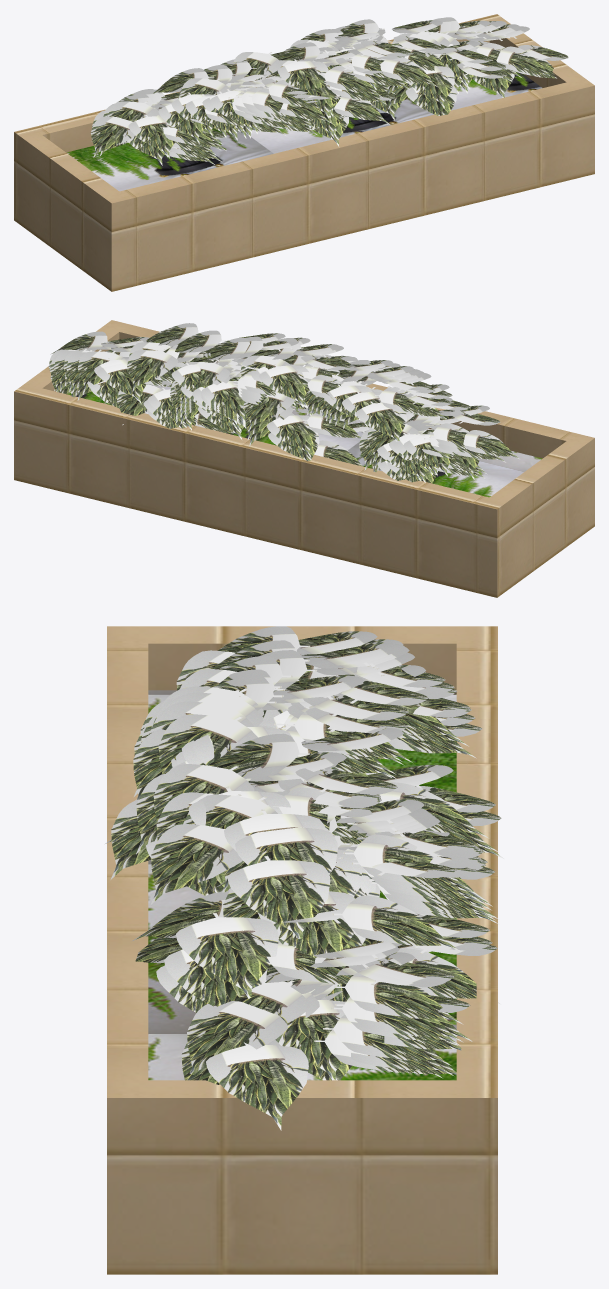
Rendered from plantas.dae.
3 renders of one model, top to bottom at view 1: azimuth 30°, elevation 25°; view 2: azimuth 150°, elevation 25°; view 3: azimuth 270°, elevation 25°, orthographic. The views are drawn at different scales.
Visible parts, largest first — view 1: group_0 (×3), instance_193, instance_291, instance_120, instance_247, instance_157, instance_12, instance_208, instance_189, instance_40, instance_75, instance_61 (+28 smaller); view 2: group_0 (×3), instance_17, instance_239, instance_48, instance_3, instance_126, instance_220, instance_291, instance_64, instance_199, instance_225, instance_203 (+27 smaller); view 3: group_0 (×3), instance_59, instance_70, instance_192, instance_157, instance_12, instance_17, instance_168, instance_225, instance_153, instance_278, instance_208 (+51 smaller).
Part boxes in pixels (x1,y1,x2,y2): group_0 (×3): [14, 14, 594, 291]; instance_193: [277, 59, 328, 90]; instance_291: [91, 116, 135, 157]; instance_120: [128, 114, 175, 158]; instance_247: [407, 66, 454, 107]; instance_157: [379, 57, 437, 86]; instance_12: [496, 46, 550, 75]; instance_208: [319, 65, 382, 97]; instance_189: [334, 96, 390, 124]; instance_40: [233, 52, 282, 79]; instance_75: [405, 86, 456, 115]; instance_61: [107, 101, 158, 121]; group_0 (×3): [14, 320, 594, 597]; instance_17: [127, 349, 178, 391]; instance_239: [260, 364, 308, 407]; instance_48: [266, 415, 317, 456]; instance_3: [356, 401, 407, 441]; instance_126: [201, 381, 245, 422]; instance_220: [243, 391, 294, 430]; instance_291: [463, 430, 519, 459]; instance_64: [96, 362, 146, 403]; instance_199: [403, 433, 453, 476]; instance_225: [77, 350, 127, 392]; instance_203: [302, 412, 360, 438]; group_0 (×3): [107, 626, 497, 1274]; instance_59: [176, 912, 278, 998]; instance_70: [206, 1042, 308, 1130]; instance_192: [227, 855, 330, 938]; instance_157: [150, 824, 242, 905]; instance_12: [187, 1001, 287, 1074]; instance_17: [332, 895, 460, 951]; instance_168: [235, 827, 337, 874]; instance_225: [334, 968, 463, 1024]; instance_153: [158, 714, 257, 774]; instance_278: [275, 1000, 345, 1080]; instance_208: [153, 764, 254, 844].
Bounding box in the file's own units: 104 × 35.96 × 27.38.
